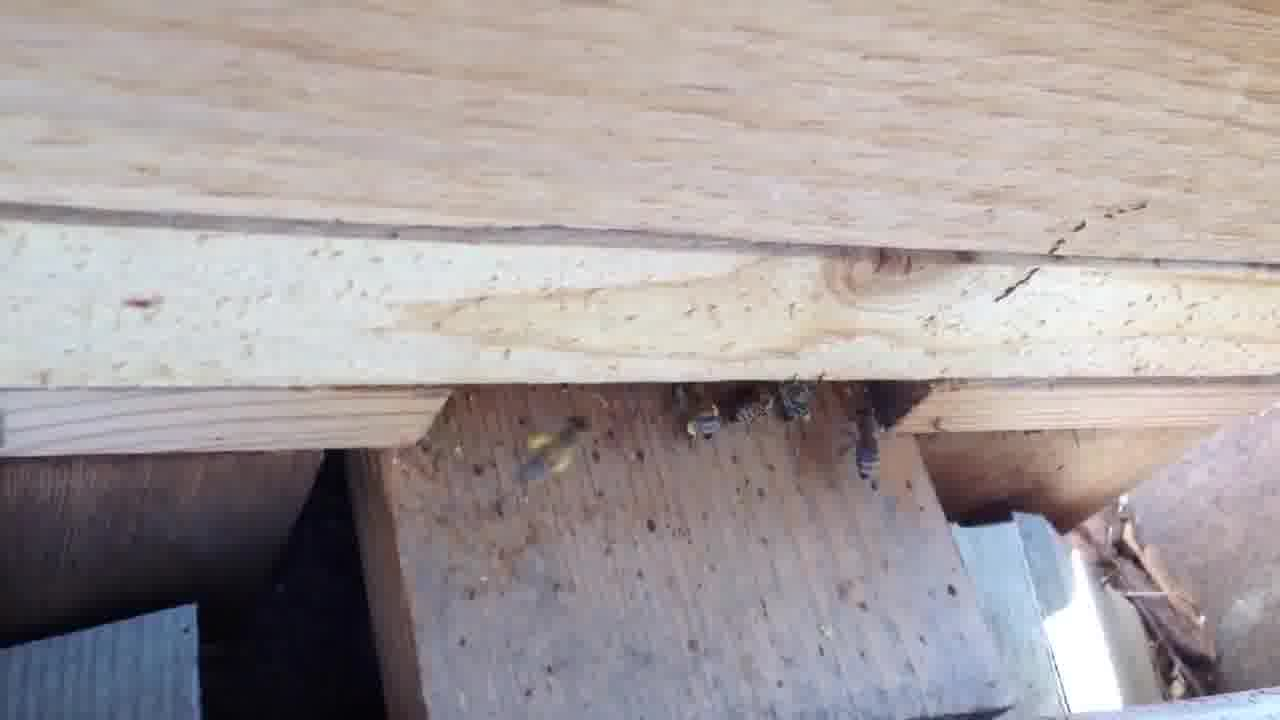pollen: (509, 413, 592, 487), (672, 394, 725, 451)
